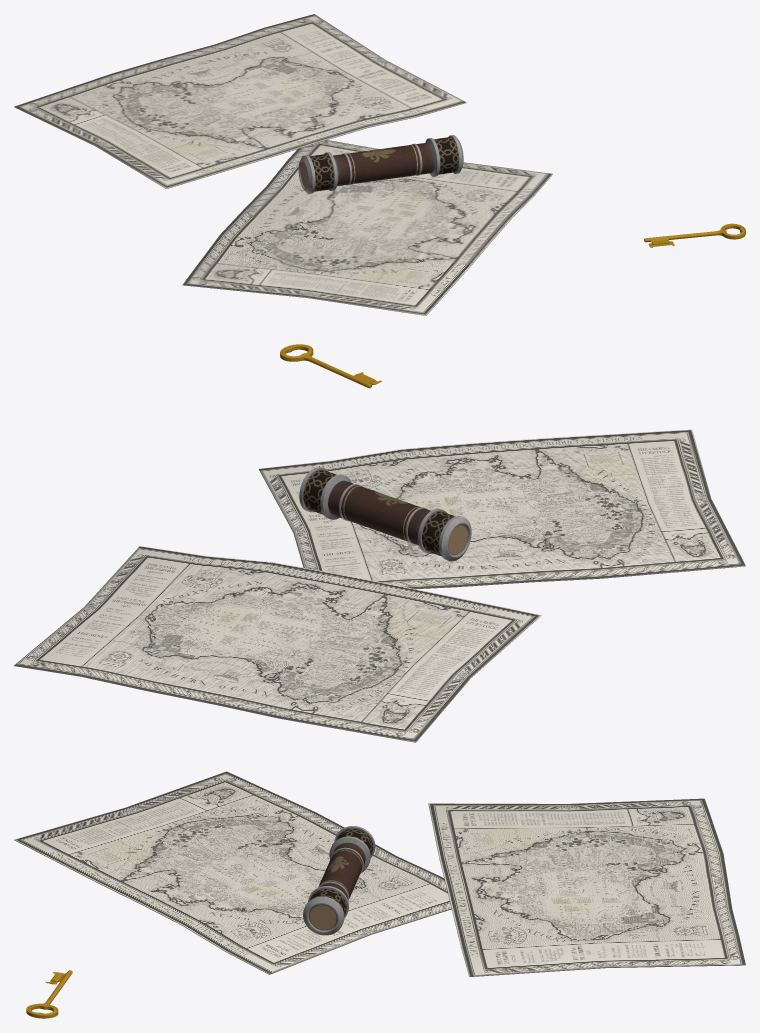
3 views of the same model, one above another, from view 1: azimuth 30°, elevation 25°; view 2: azimuth 150°, elevation 25°; view 3: azimuth 270°, elevation 25° (orthographic). The views are drawn at different scales.
Parts seen in each view (by area): view 1: Scroll.001, Scroll, Tube, Shiny Key; view 2: Scroll.001, Scroll, Tube, Shiny Key; view 3: Scroll.001, Scroll, Tube, Shiny Key.
Part boxes in pixels (box(x1,y1,x2,y2)): Scroll.001: box(14, 14, 466, 188); Scroll: box(182, 140, 552, 315); Tube: box(298, 135, 463, 193); Shiny Key: box(644, 223, 745, 247); Scroll.001: box(14, 546, 541, 742); Scroll: box(258, 429, 745, 589); Tube: box(299, 467, 471, 561); Shiny Key: box(280, 344, 381, 388); Scroll.001: box(428, 798, 745, 976); Scroll: box(14, 771, 451, 974); Tube: box(303, 826, 375, 935); Shiny Key: box(26, 970, 72, 1018).
Size of the model in its own units: 55.97 by 4.44 by 69.63.
2 materials, 1 textured.
